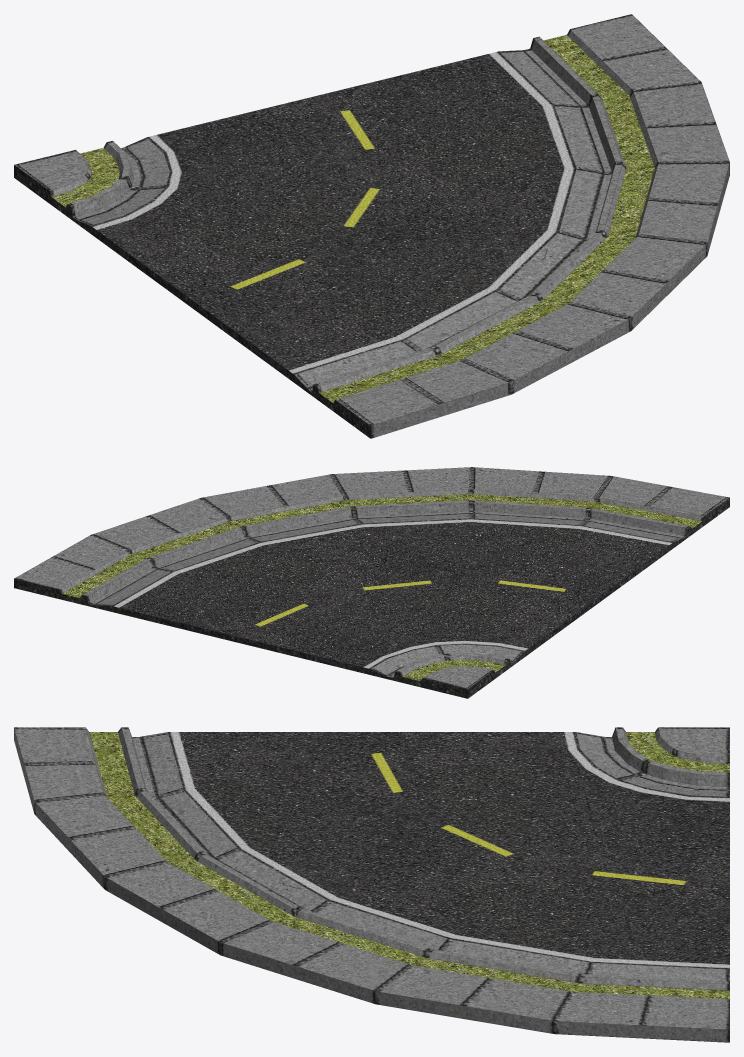
Rendered from Road-2-Lane-Corner.obj.
The picture shows the model from 3 angles, top to bottom: view 1: azimuth 30°, elevation 25°; view 2: azimuth 150°, elevation 25°; view 3: azimuth 270°, elevation 25°; orthographic projection. The views are drawn at different scales.
Parts seen in each view (by area): view 1: Road_2_Lane_Corner; view 2: Road_2_Lane_Corner; view 3: Road_2_Lane_Corner.
Part boxes in pixels (x1,y1,x2,y2): Road_2_Lane_Corner: (14, 14, 729, 438); Road_2_Lane_Corner: (14, 467, 729, 698); Road_2_Lane_Corner: (14, 727, 729, 1042).
Size of the model in its own units: 3600 by 72 by 3600.
Materials: 1 (1 with a texture image).
